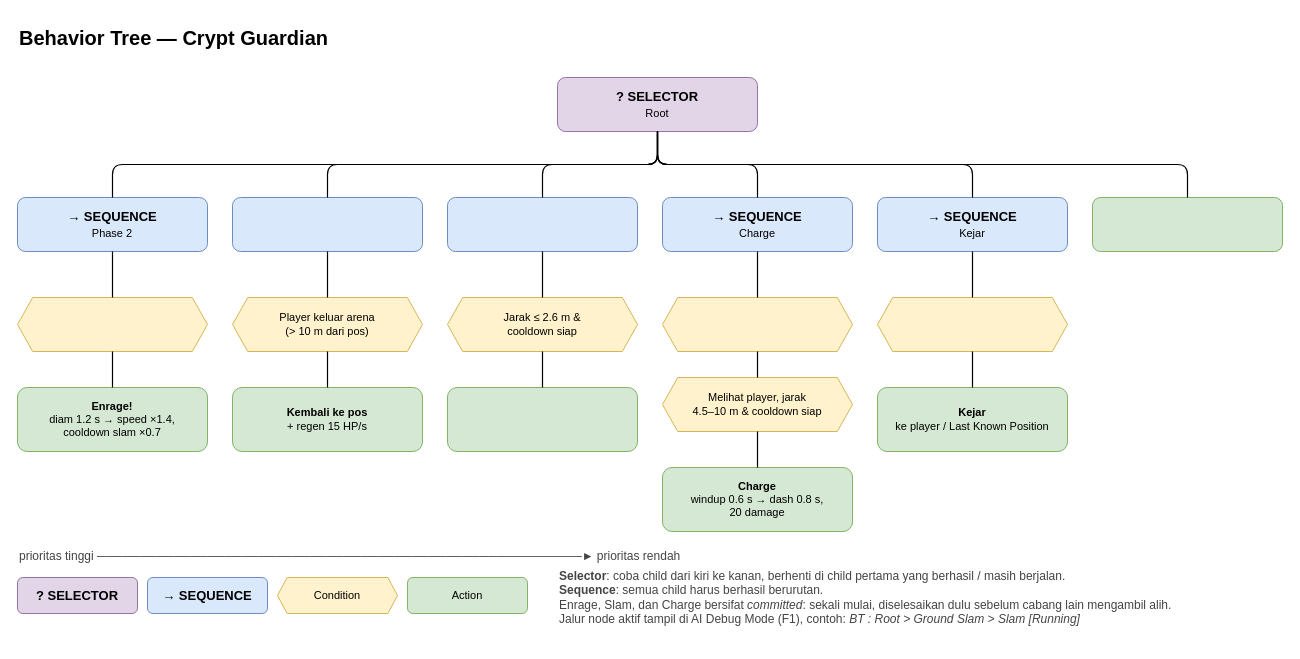
Image size: 1300x659. Some labels were removed from this diagram. Each missing label, with the box of its shape:
Ground Slam windup 0.8 s → area 3 m, 25 damage: (446, 386, 638, 452)
HP ≤ 50% & belum enrage: (16, 296, 208, 352)
Jaga pos berjaga + look around: (1092, 196, 1282, 252)
Phase 2 (enraged): (662, 296, 852, 352)
Player / LKP di dalam arena: (876, 296, 1068, 352)
→ SEQUENCE Ground Slam: (446, 196, 638, 252)
→ SEQUENCE Leash: (232, 196, 422, 252)
